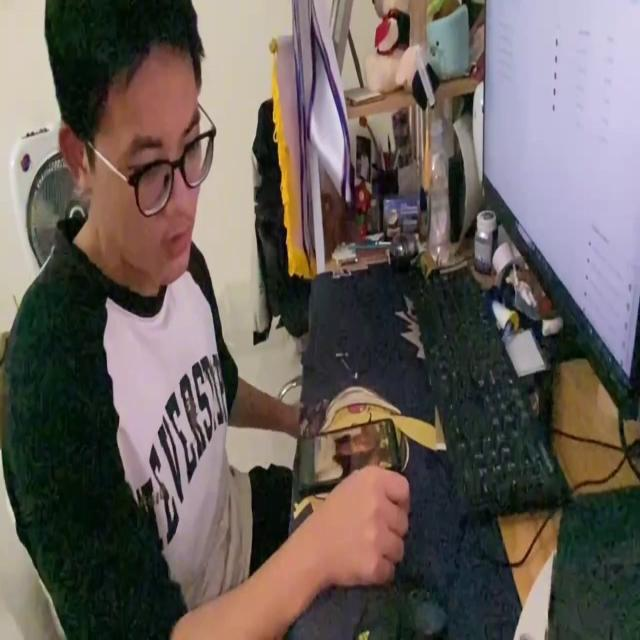laptop: (481, 0, 640, 420)
phone: (293, 415, 402, 490)
student: (2, 0, 413, 640)
